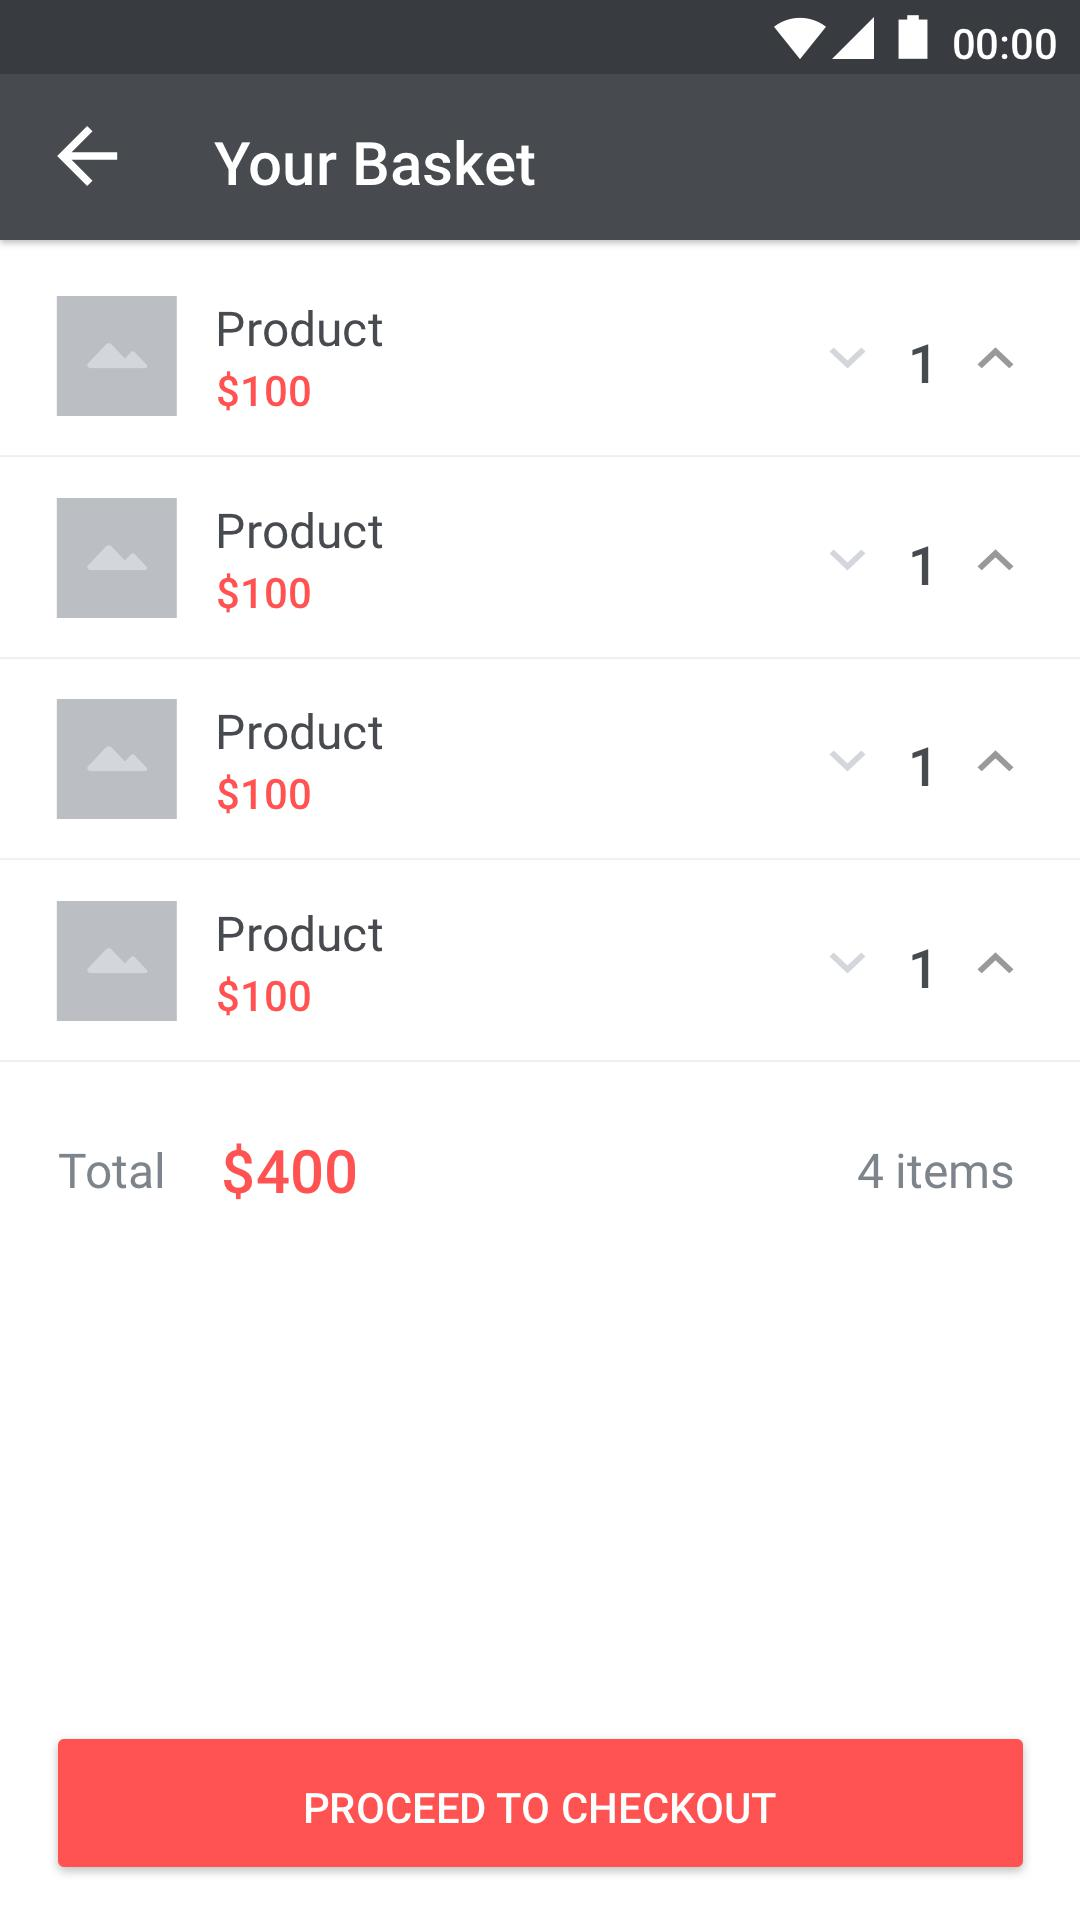Icon: (55, 127, 121, 189), (976, 347, 1014, 371), (976, 549, 1014, 572), (976, 952, 1015, 975), (829, 347, 868, 369), (829, 549, 868, 571), (829, 749, 868, 771), (828, 952, 866, 975), (977, 750, 1014, 773)
Image: (57, 901, 178, 1022), (57, 700, 179, 820), (58, 498, 179, 618), (58, 297, 178, 417)
Text: (212, 141, 538, 189), (225, 1143, 357, 1199), (219, 309, 384, 348), (219, 512, 384, 551), (218, 713, 385, 750), (218, 915, 384, 952), (857, 1153, 1013, 1189), (218, 976, 311, 1018), (61, 1153, 165, 1189), (218, 371, 311, 411), (218, 574, 311, 615), (219, 774, 311, 815), (910, 343, 930, 385), (910, 546, 930, 588), (910, 748, 930, 789), (910, 949, 930, 989)
TextButton: (58, 1739, 1025, 1869)
UpperTaskBar: (1, 1, 1080, 75)
